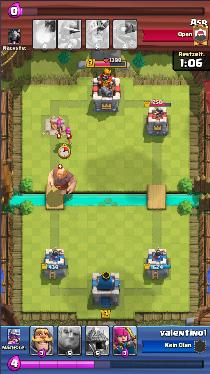enemy_archer: (63, 127, 73, 142), (56, 121, 63, 133)
enemy_giant: (47, 168, 77, 196)
